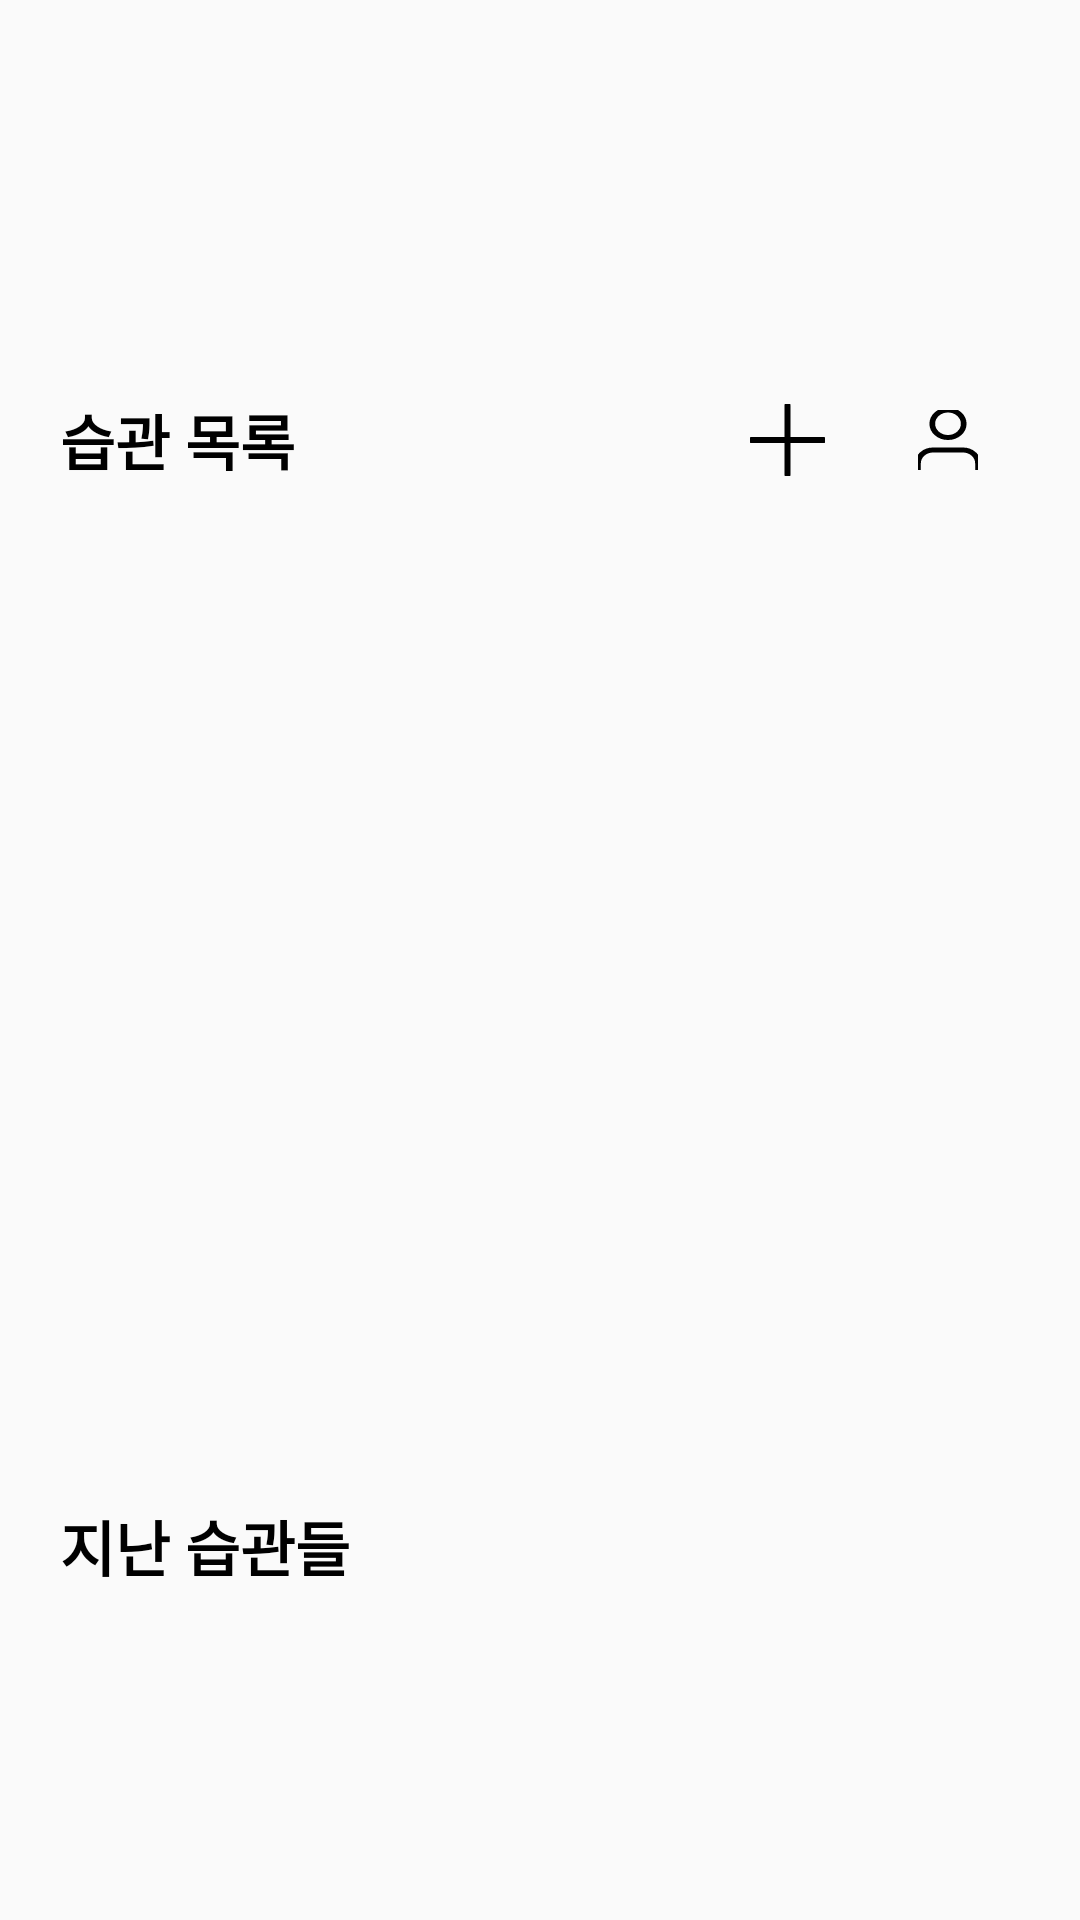

Locate icon controls on the screen. Image size 1080 x 1920, boxes as (x1, y1, x2, y2).
add: (750, 404, 825, 476)
user: (918, 410, 978, 470)
